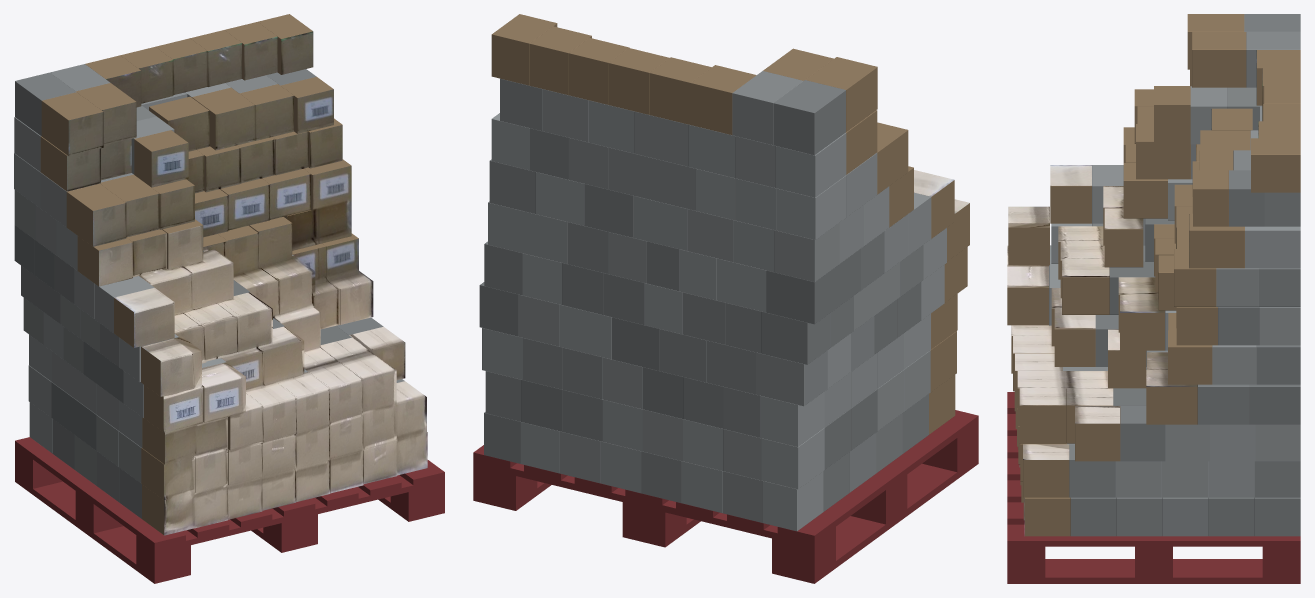
The model's file is pallet_reconstruction.glb.
The picture shows the model from 3 angles, left to right: view 1: azimuth 30°, elevation 25°; view 2: azimuth 150°, elevation 25°; view 3: azimuth 270°, elevation 25°; orthographic projection. The views are drawn at different scales.
Visible parts, largest first — view 1: OBS_A1, Pallet_deck_board_0, OBS_C1, OBS_F1, OBS_E1, Pallet_runner_0, OBS_B3, OBS_B5, Pallet_cross_bearer_0, OBS_G2, OBS_D1, OBS_B1 (+116 smaller); view 2: HYP_L10_A1_R02, Pallet_deck_board_0, Pallet_runner_0, HYP_L09_B1_R02, HYP_L06_E1_R06, HYP_L08_C1_R03, HYP_L10_A2_R02, HYP_L04_G1_R07, Pallet_cross_bearer_2, HYP_L05_F1_R07, OBS_A3, HYP_L07_D1_R04 (+113 smaller); view 3: Pallet_runner_2, Pallet_deck_board_6, OBS_A2, OBS_A8, OBS_I7, OBS_F4, OBS_H3, OBS_J8, OBS_F1, OBS_G2, OBS_E1, OBS_C8 (+77 smaller).
Boxes of the visible parts, bbox=[...] form: OBS_A1: bbox=[41, 92, 103, 156]; Pallet_deck_board_0: bbox=[15, 437, 185, 548]; OBS_C1: bbox=[66, 183, 126, 246]; OBS_F1: bbox=[141, 336, 201, 396]; OBS_E1: bbox=[114, 287, 174, 347]; Pallet_runner_0: bbox=[15, 476, 190, 583]; OBS_B3: bbox=[134, 130, 188, 187]; OBS_B5: bbox=[192, 87, 254, 150]; Pallet_cross_bearer_0: bbox=[136, 475, 444, 552]; OBS_G2: bbox=[202, 362, 245, 422]; OBS_D1: bbox=[77, 236, 132, 286]; OBS_B1: bbox=[40, 136, 100, 191]; HYP_L10_A1_R02: bbox=[773, 80, 845, 155]; Pallet_deck_board_0: bbox=[777, 410, 978, 542]; Pallet_runner_0: bbox=[772, 457, 978, 583]; HYP_L09_B1_R02: bbox=[775, 133, 846, 197]; HYP_L06_E1_R06: bbox=[766, 265, 837, 324]; HYP_L08_C1_R03: bbox=[776, 175, 846, 239]; HYP_L10_A2_R02: bbox=[732, 71, 803, 145]; HYP_L04_G1_R07: bbox=[756, 351, 827, 406]; Pallet_cross_bearer_2: bbox=[473, 459, 835, 547]; HYP_L05_F1_R07: bbox=[761, 311, 830, 364]; OBS_A3: bbox=[690, 65, 756, 134]; HYP_L07_D1_R04: bbox=[774, 223, 839, 281]; Pallet_runner_2: bbox=[1007, 559, 1300, 583]; Pallet_deck_board_6: bbox=[1007, 524, 1300, 546]; OBS_A2: bbox=[1192, 32, 1246, 87]; OBS_A8: bbox=[1251, 138, 1300, 192]; OBS_I7: bbox=[1019, 388, 1066, 443]; OBS_F4: bbox=[1062, 260, 1109, 314]; OBS_H3: bbox=[1075, 406, 1120, 461]; OBS_J8: bbox=[1023, 444, 1069, 497]; OBS_F1: bbox=[1008, 206, 1049, 265]; OBS_G2: bbox=[1007, 266, 1048, 325]; OBS_E1: bbox=[1050, 165, 1091, 223]; OBS_C8: bbox=[1189, 213, 1244, 268].
Bounding box in the file's own units: 1.2 × 1.58 × 1.
Materials: 10 (1 with a texture image).
